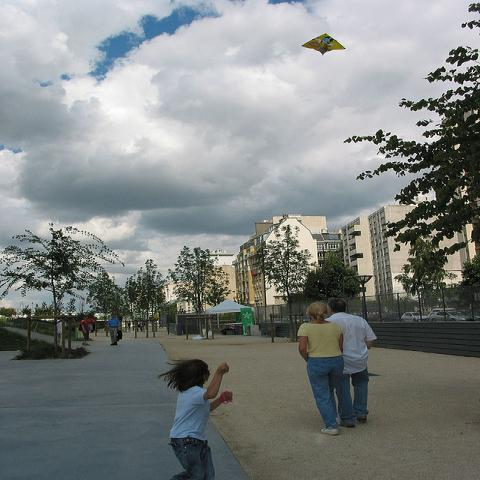car: (427, 311, 477, 322), (401, 312, 428, 322), (369, 312, 397, 321), (432, 307, 467, 313), (303, 316, 310, 322)
